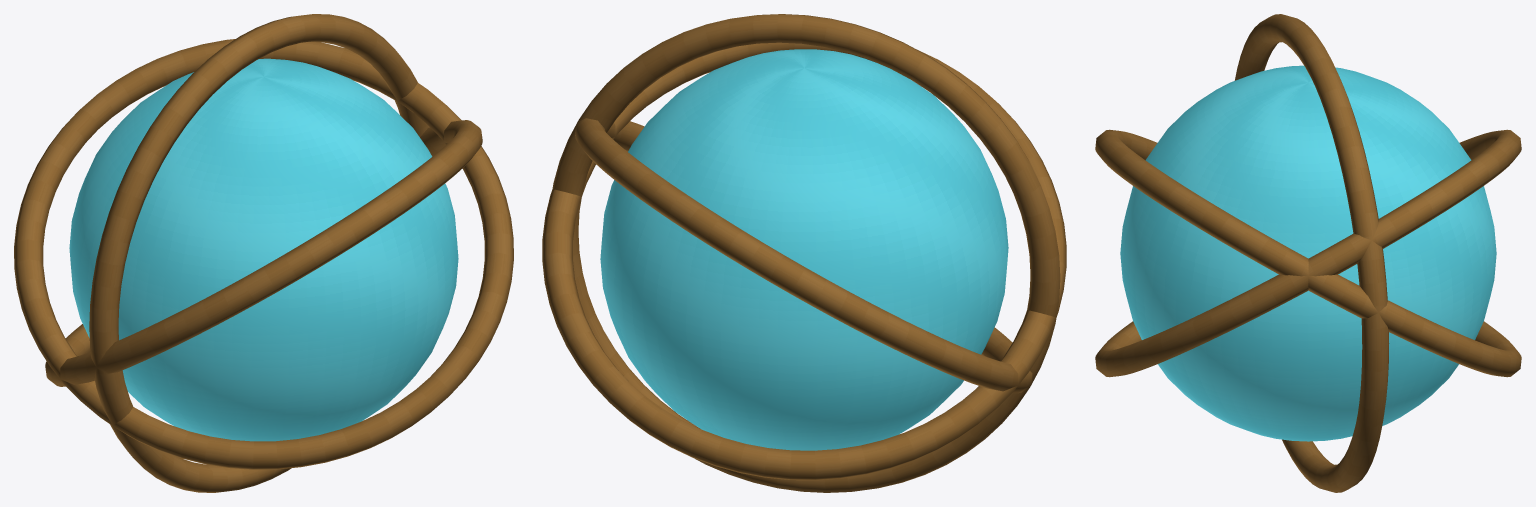
The model's file is relic-orb.glb.
3 renders of one model, left to right at view 1: azimuth 30°, elevation 25°; view 2: azimuth 150°, elevation 25°; view 3: azimuth 270°, elevation 25°, orthographic. The views are drawn at different scales.
Visible parts, largest first — view 1: crystal.0, brass.3, brass.1, brass.2; view 2: crystal.0, brass.1, brass.2, brass.3; view 3: crystal.0, brass.1, brass.3, brass.2.
Part boxes in pixels (x1,y1,x2,y2): crystal.0: [69, 58, 458, 441]; brass.3: [14, 39, 513, 469]; brass.1: [89, 14, 429, 492]; brass.2: [45, 120, 482, 386]; crystal.0: [600, 49, 1008, 450]; brass.1: [552, 14, 1060, 492]; brass.2: [542, 42, 1066, 480]; brass.3: [575, 118, 1032, 393]; crystal.0: [1120, 65, 1496, 441]; brass.1: [1234, 14, 1389, 492]; brass.3: [1095, 129, 1521, 377]; brass.2: [1095, 129, 1521, 377].
Size of the model in its own units: 0.2942 by 0.308 by 0.2719.
2 materials, 2 textured.
